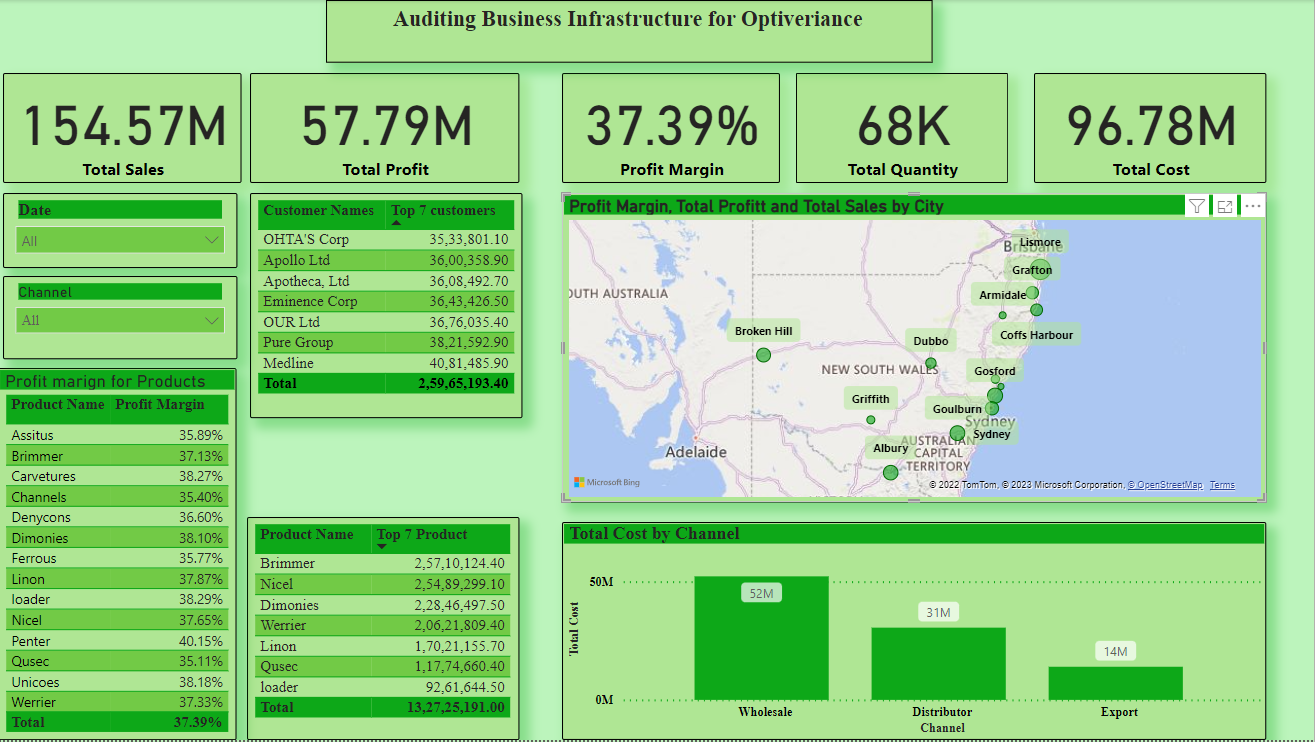

This screenshot's page, from the dashboard's own definition file:
{"tool":"powerbi","page":{"name":"Over All, top","canvas":[1280,720],"ordinal":0},"visuals":[{"type":"card","fields":{"Values":["Importan Measures.Total Sales"]},"box":[4.9,71,232.5,107],"z":0},{"type":"card","fields":{"Values":["Importan Measures.Total Quantity"]},"box":[776.2,71,206.2,107],"z":1000},{"type":"card","fields":{"Values":["Importan Measures.Total Cost"]},"box":[1007.7,71,225.7,107],"z":2000},{"type":"card","fields":{"Values":["Importan Measures.Total Profitt"]},"box":[245.1,71,261.6,107],"z":3000},{"type":"card","fields":{"Values":["Importan Measures.Profit Margin"]},"box":[548.6,71,212,107],"z":4000},{"type":"tableEx","fields":{"Values":["Customer Data.Customer Names","Specific Seniario.Top 7 customers"]},"box":[245.1,187.7,264.6,218.8],"z":5000},{"type":"tableEx","fields":{"Values":["Product Data.Product Name","Specific Seniario.Top 7 Product"]},"box":[242.2,502.9,264.6,216.9],"z":6000},{"type":"map","title":"Profit Margin, Total Profitt and Total Sales by City","fields":{"Category":["Regions.City"],"Size":["Importan Measures.Profit Margin"]},"box":[548.6,187.7,684.7,300.5],"z":7000},{"type":"tableEx","title":"Profit marign for Products ","fields":{"Values":["Product Data.Product Name","Importan Measures.Profit Margin"]},"box":[0,357.9,232.5,361.8],"z":8000},{"type":"slicer","fields":{"Values":["Dim Table.Date"]},"box":[4.9,187.7,227.6,72.9],"z":9000},{"type":"lineStackedColumnComboChart","fields":{"Category":["Sales.Channel"],"Y":["Importan Measures.Total Cost"]},"box":[548.6,507.7,684.7,212],"z":10000},{"type":"slicer","fields":{"Values":["Sales.Channel"]},"box":[4.9,268.4,227.6,80.7],"z":11000},{"type":"textbox","box":[319,0,590.4,61.3],"z":12000}]}

Visuals, with their boxes in screenshot pixels (x1, y1, x2, y2), scaled from the page's 1280x720 canvas onto the 1315x742 screenshot:
card - Importan Measures.Total Sales: Rect(5, 73, 244, 183)
card - Importan Measures.Total Quantity: Rect(797, 73, 1009, 183)
card - Importan Measures.Total Cost: Rect(1035, 73, 1267, 183)
card - Importan Measures.Total Profitt: Rect(252, 73, 521, 183)
card - Importan Measures.Profit Margin: Rect(564, 73, 781, 183)
tableEx - Customer Data.Customer Names x Specific Seniario.Top 7 customers: Rect(252, 193, 524, 419)
tableEx - Product Data.Product Name x Specific Seniario.Top 7 Product: Rect(249, 518, 521, 741)
"Profit Margin, Total Profitt and Total Sales by City" map: Rect(564, 193, 1267, 503)
"Profit marign for Products " tableEx: Rect(0, 369, 239, 741)
slicer - Dim Table.Date: Rect(5, 193, 239, 269)
lineStackedColumnComboChart - Sales.Channel x Importan Measures.Total Cost: Rect(564, 523, 1267, 741)
slicer - Sales.Channel: Rect(5, 277, 239, 360)
textbox: Rect(328, 0, 934, 63)
